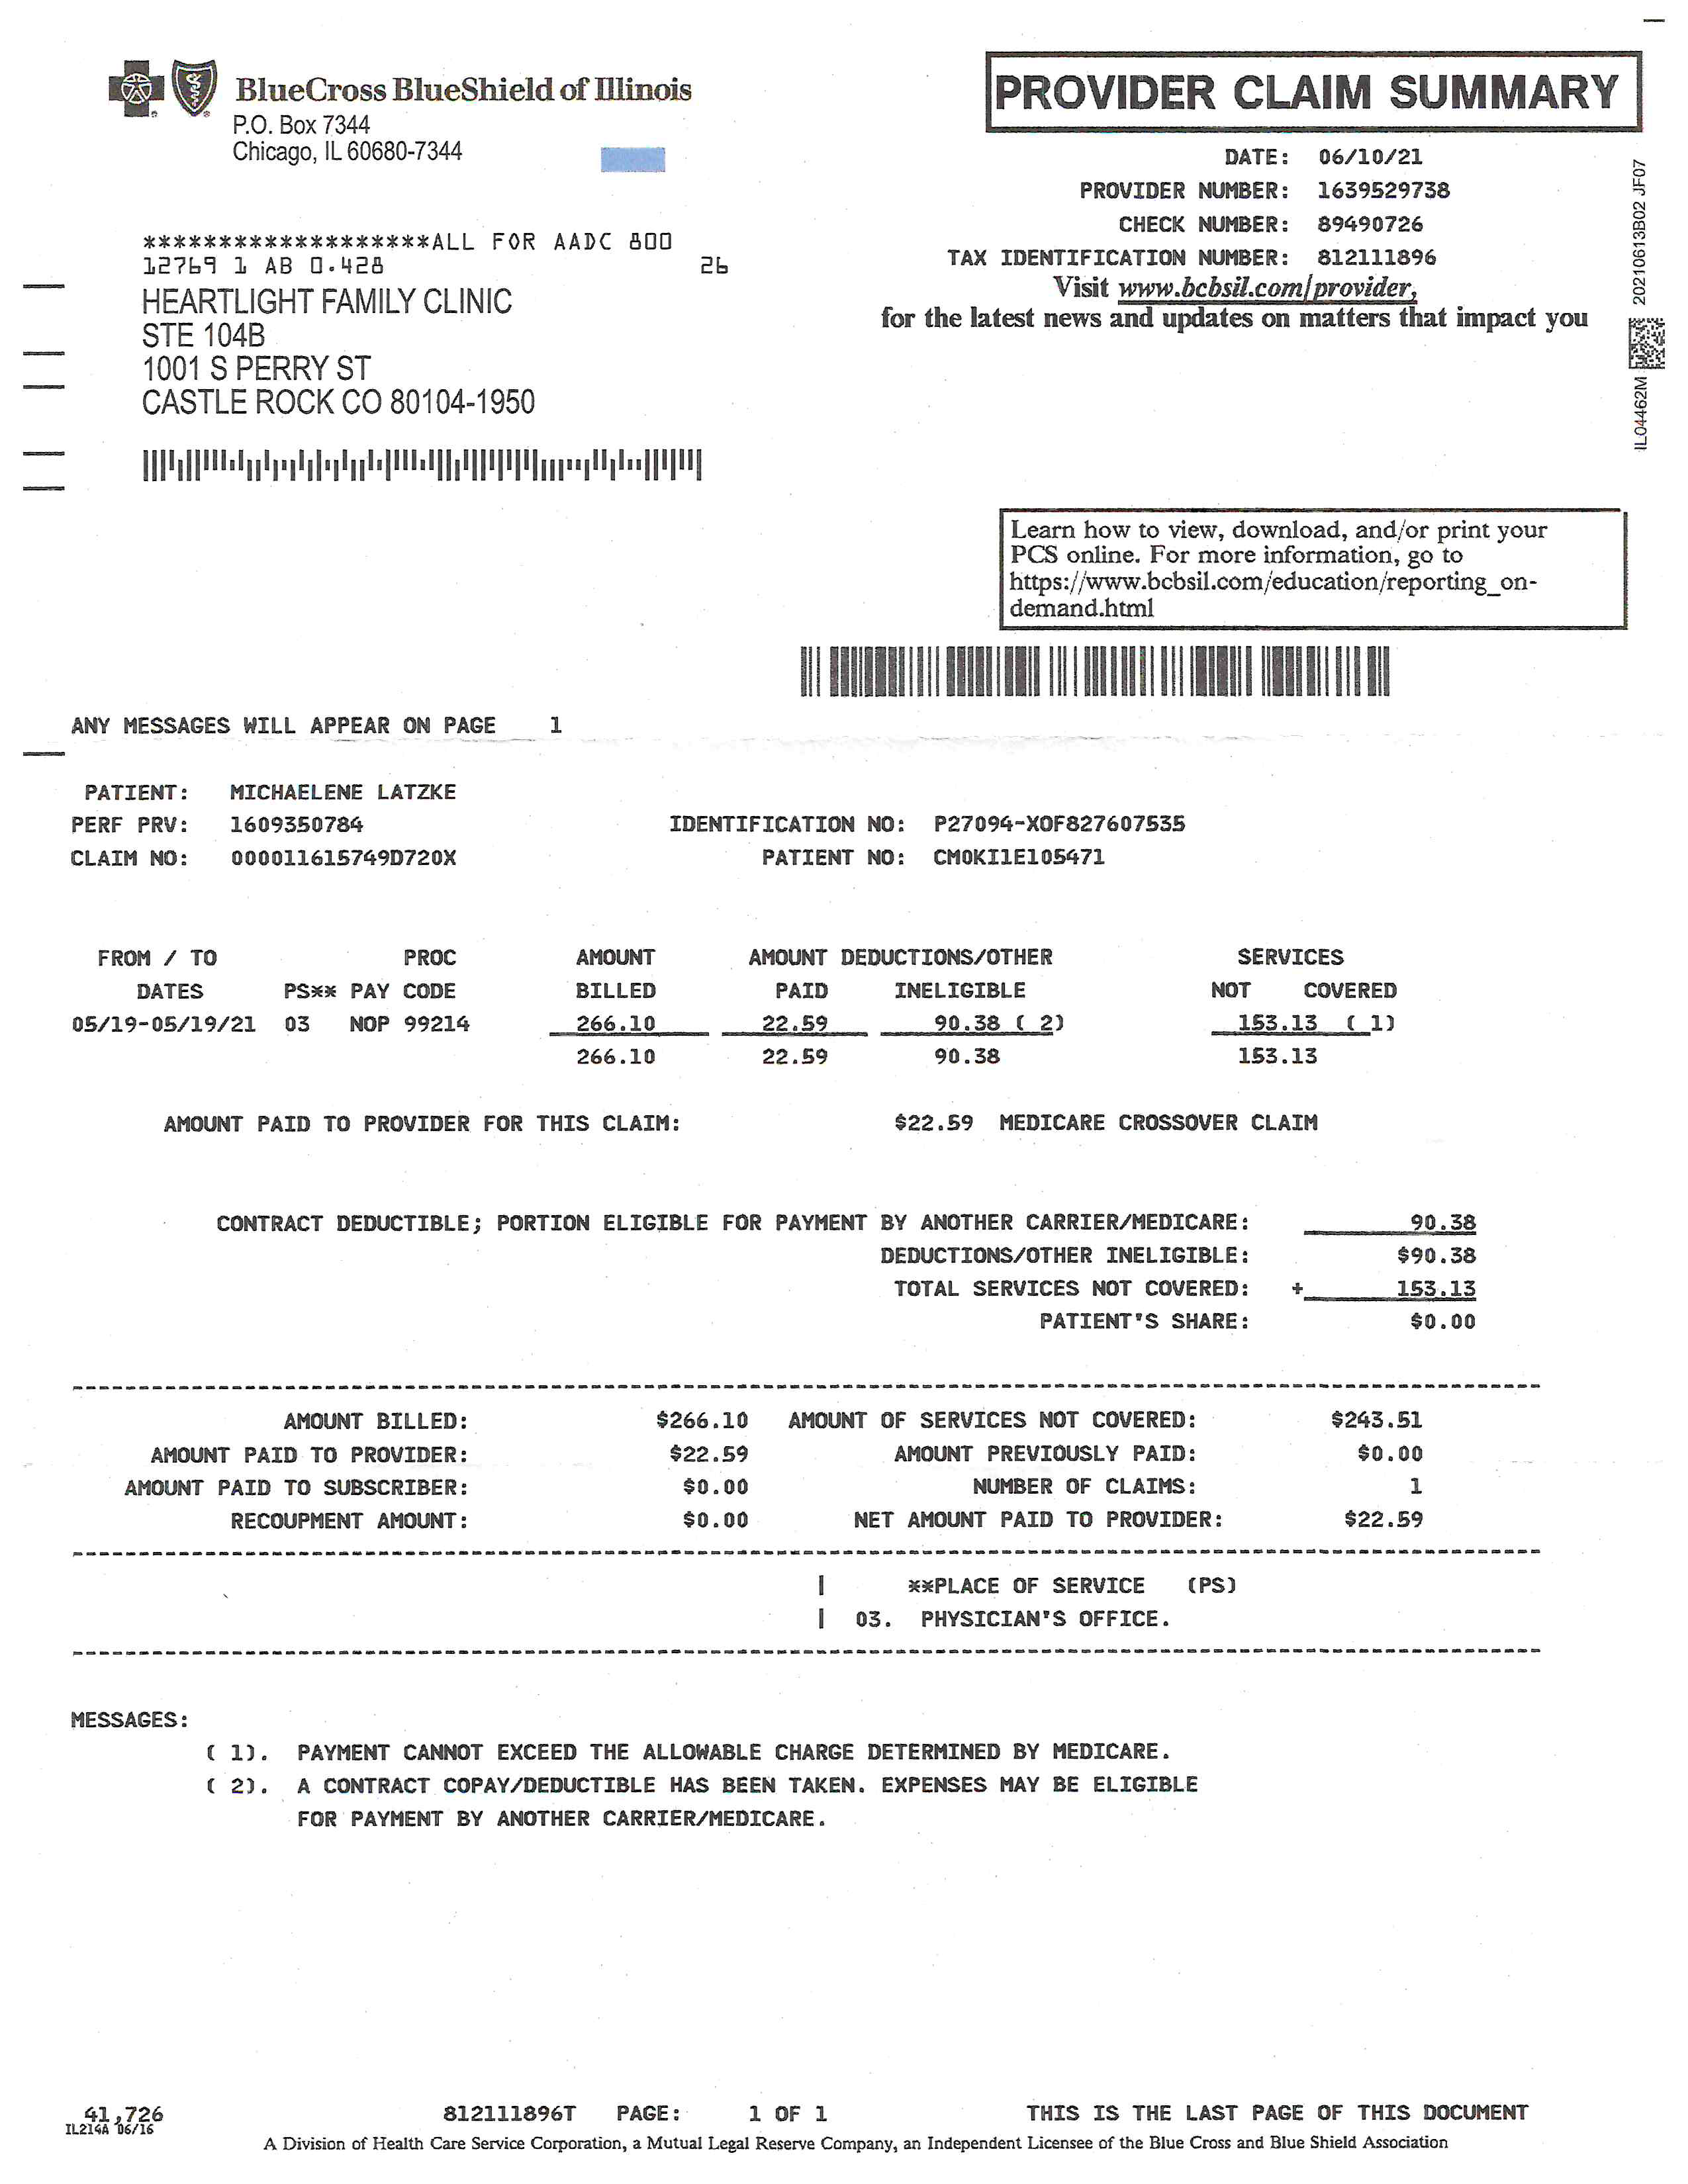data: (640, 778, 1213, 901), (50, 748, 496, 888), (1075, 140, 1477, 238)
table: (44, 940, 1456, 1087)
